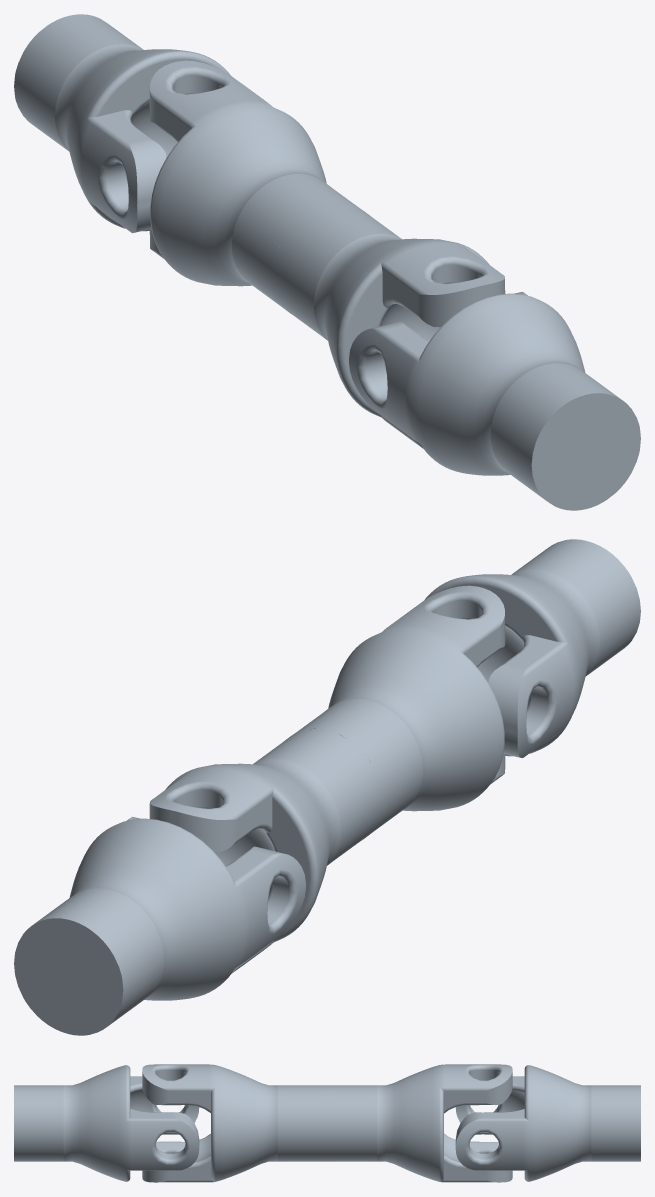
File: unijoint.obj
3 renders of one model, top to bottom at view 1: azimuth 30°, elevation 25°; view 2: azimuth 150°, elevation 25°; view 3: azimuth 270°, elevation 25°, orthographic. The views are drawn at different scales.
Visible parts, largest first — view 1: 1, 3, 4, 2; view 2: 4, 2, 1, 3; view 3: 2, 3, 4, 1.
Boxes of the visible parts, x1,y1,x2,y2 form: 1: [349, 292, 640, 510]; 3: [149, 60, 361, 311]; 4: [14, 14, 230, 233]; 2: [273, 203, 505, 448]; 4: [14, 816, 305, 1035]; 2: [294, 585, 505, 836]; 1: [425, 539, 640, 757]; 3: [149, 728, 381, 973]; 2: [142, 1064, 327, 1182]; 3: [327, 1064, 512, 1182]; 4: [455, 1065, 640, 1181]; 1: [14, 1065, 199, 1181].
Bounding box in the file's own units: 154 × 154 × 820.
